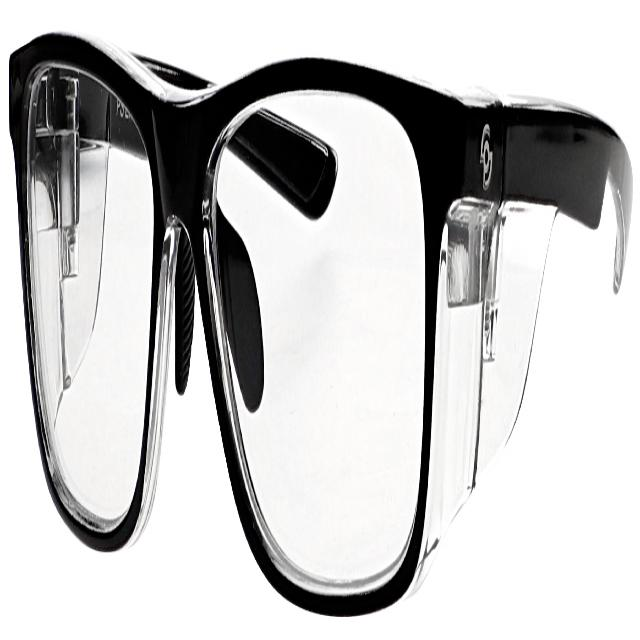Protective Glasses: (4, 50, 640, 620)
